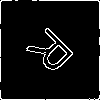R: (25, 25, 83, 83)
